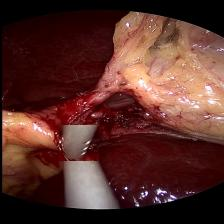Irrigator: (58, 125, 98, 161)
